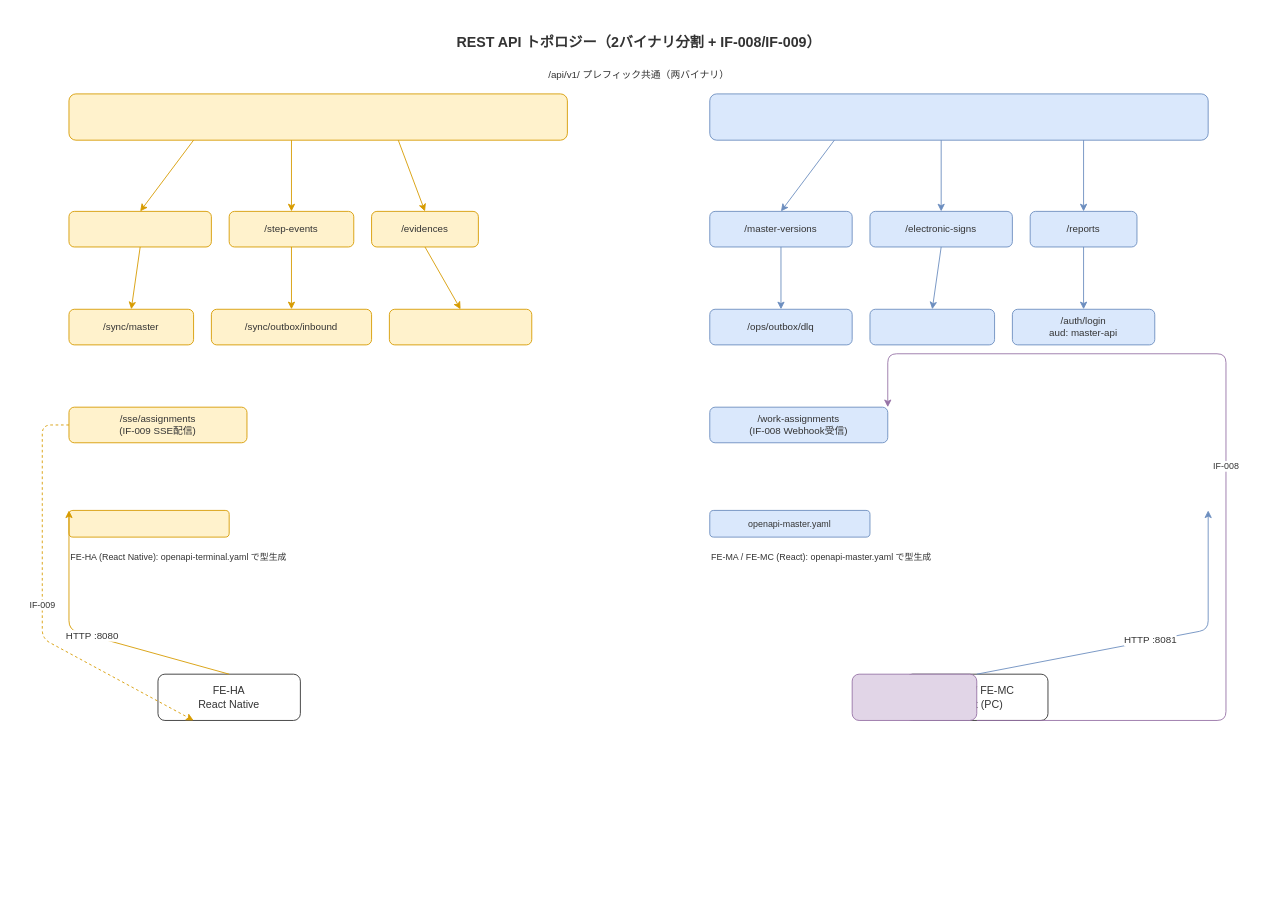
The diagram is 1276 pixels wide and 920 high, and some of its shapes have lost their labels. The shapes that lost their labels are listed below. From the top down, each one's box as (x1, y1, x2, y2) in pixels, then its label:
(68, 93, 567, 140): wnav_terminal_api :8080
(709, 93, 1208, 140): wnav_master_api :8081
(68, 210, 211, 247): /work-executions
(388, 308, 532, 345): /auth/login aud: terminal-api
(869, 308, 995, 345): /master/sops
(68, 510, 229, 537): openapi-terminal.yaml
(851, 673, 977, 720): MES/ERP （規親）
